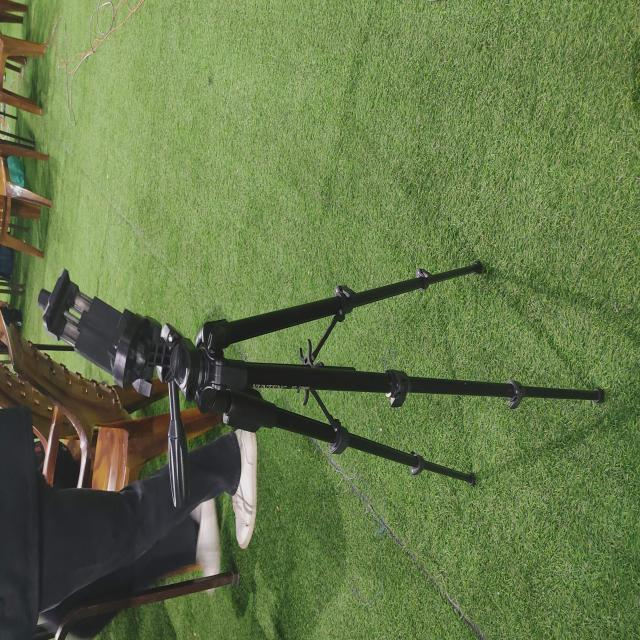Camer Stand: (36, 258, 605, 551)
